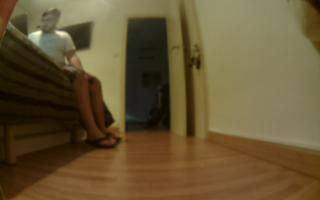person: (31, 2, 129, 157)
